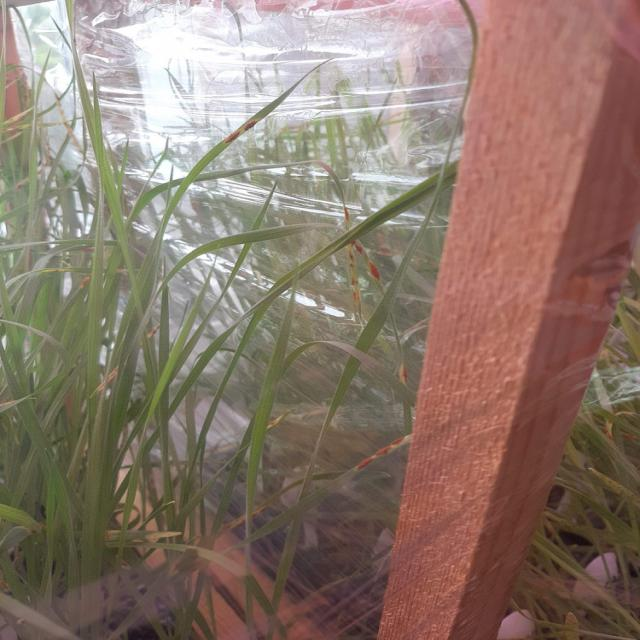wheat-stemrust: (346, 434, 413, 473), (344, 249, 360, 322)
